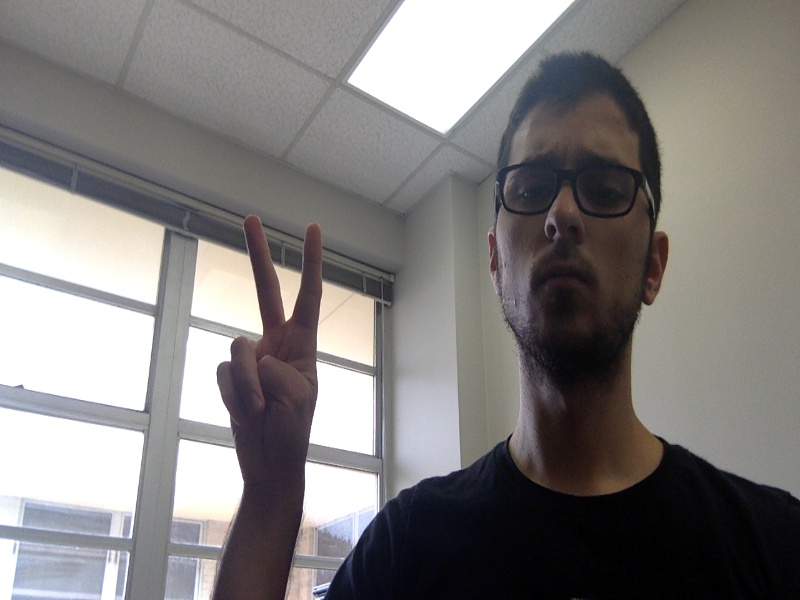2-hand: (219, 215, 326, 477)
